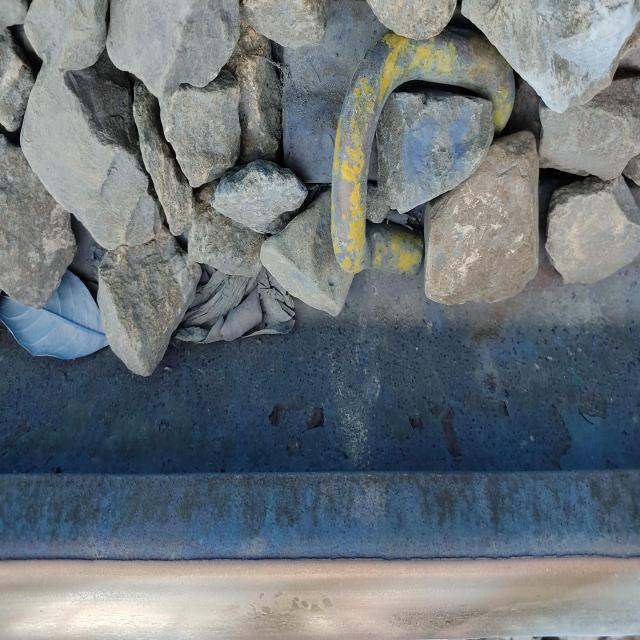Good Fasteners: (258, 13, 580, 337)
